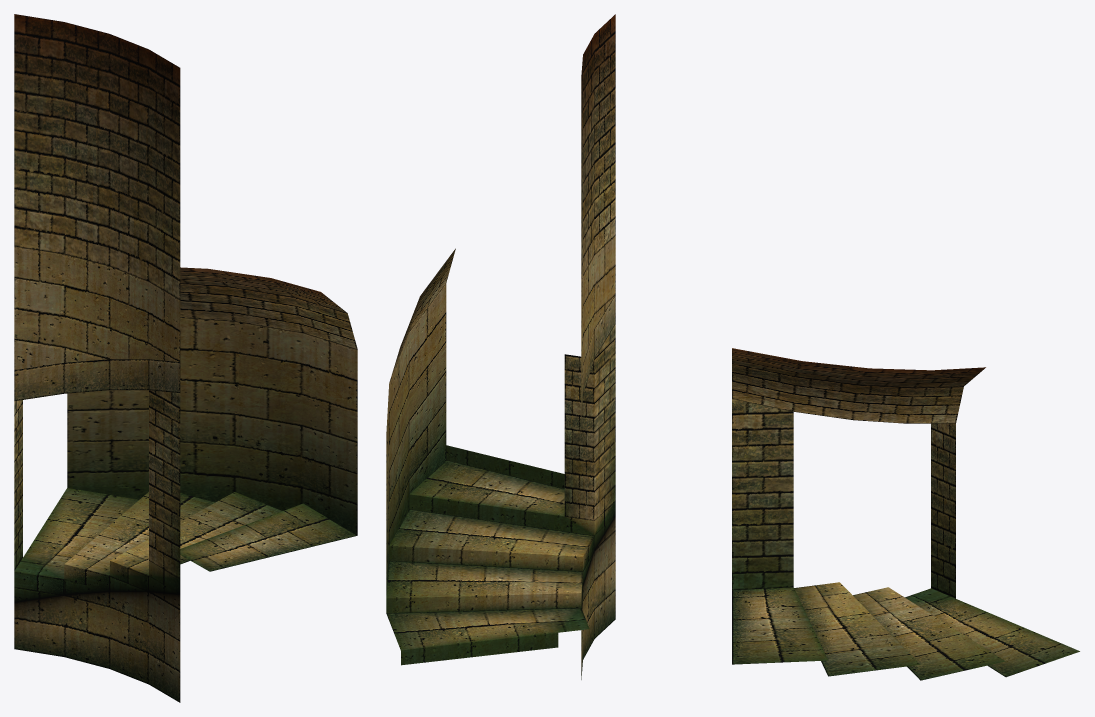
File: Mission12_Catacomb01_BPT2.glb
3 views of the same model, side by side, from view 1: azimuth 30°, elevation 25°; view 2: azimuth 150°, elevation 25°; view 3: azimuth 270°, elevation 25° (orthographic). The views are drawn at different scales.
Visible parts, largest first — view 1: MISSION12_CATACOMB01_BPT2; view 2: MISSION12_CATACOMB01_BPT2; view 3: MISSION12_CATACOMB01_BPT2.
Boxes of the visible parts, x1,y1,x2,y2 form: MISSION12_CATACOMB01_BPT2: (14, 14, 357, 702); MISSION12_CATACOMB01_BPT2: (386, 14, 615, 679); MISSION12_CATACOMB01_BPT2: (732, 348, 1079, 680).
Size of the model in its own units: 4.17 by 10.25 by 6.19.
2 materials, 2 textured.
